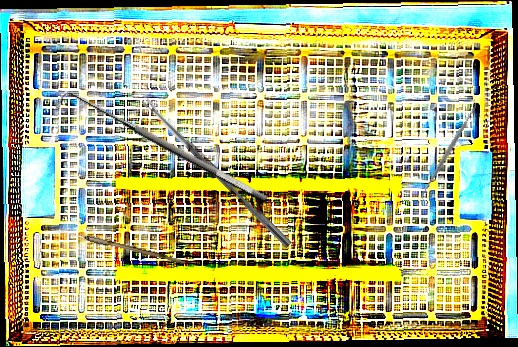Hook Surgical: (52, 81, 270, 220)
Spatula Surgical: (414, 98, 484, 202)
Surgical Spoon: (141, 96, 294, 249), (49, 226, 187, 265)
